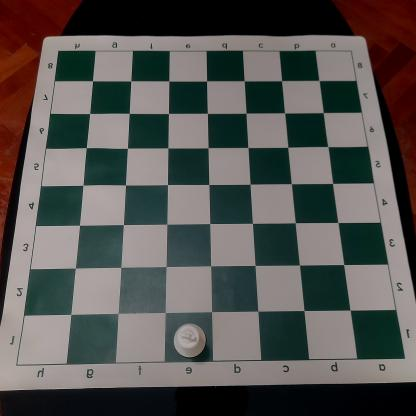white-king: (172, 321, 208, 360)
